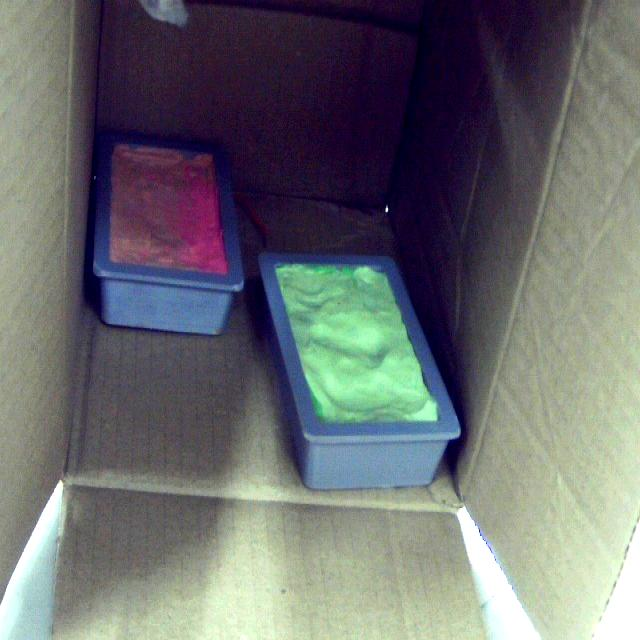block: (253, 248, 465, 491), (89, 134, 248, 335)
